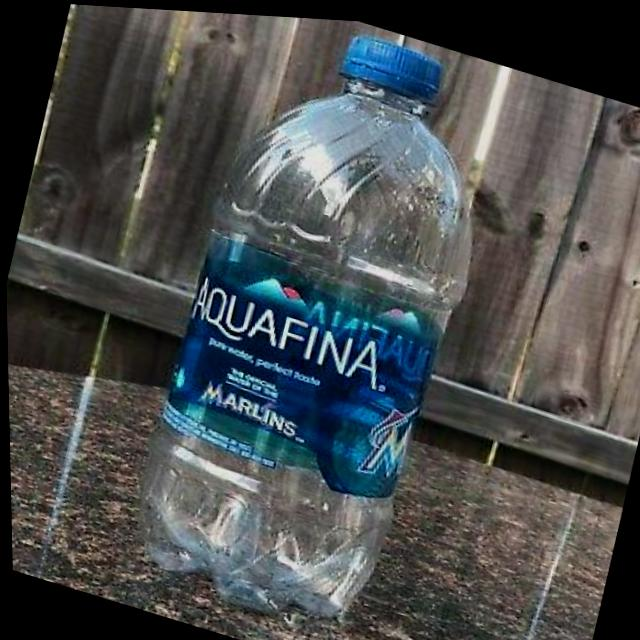anorganik: (95, 4, 529, 640)
